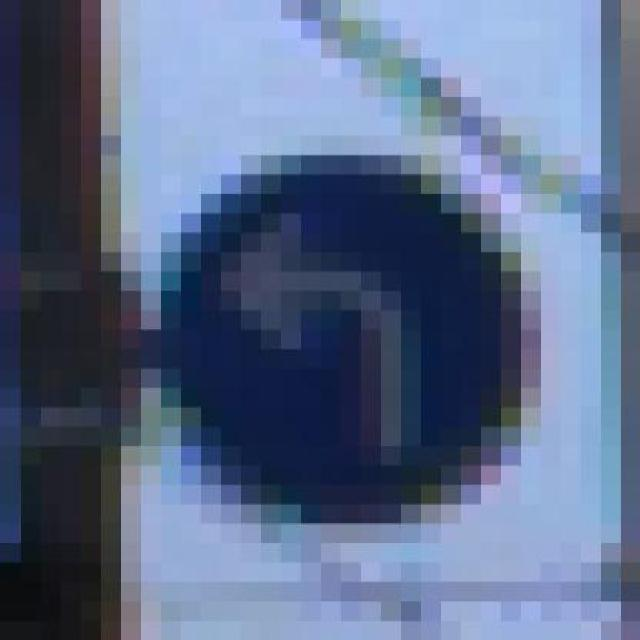Turn left ahead: (160, 116, 580, 562)
